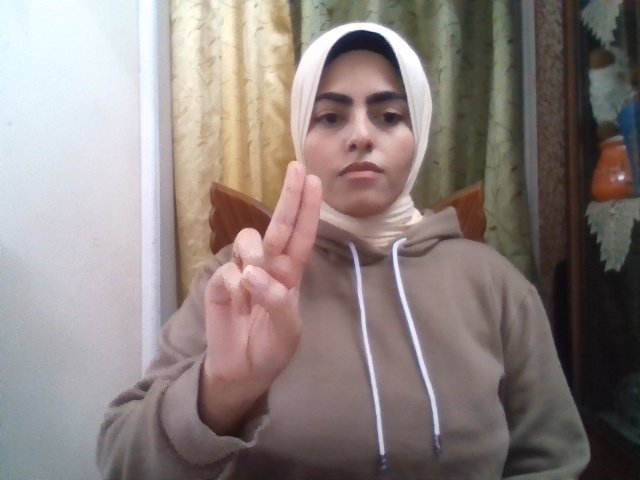U: (206, 161, 323, 383)
